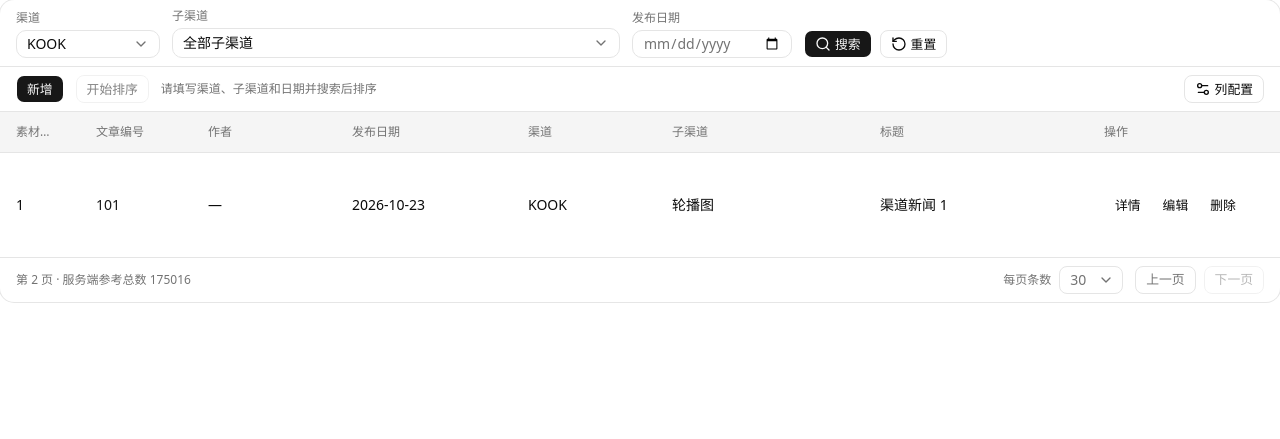
Test: 渠道素材筛选、分页和详情 › 每页条数变化回到第一页，保留已提交条件
Check: the button "渠道新闻 1" is shown, box [880,195,1168,215]
Step 1. Click the dropdown named "每页条数" → (1091, 280), box [1059,266,1123,294]
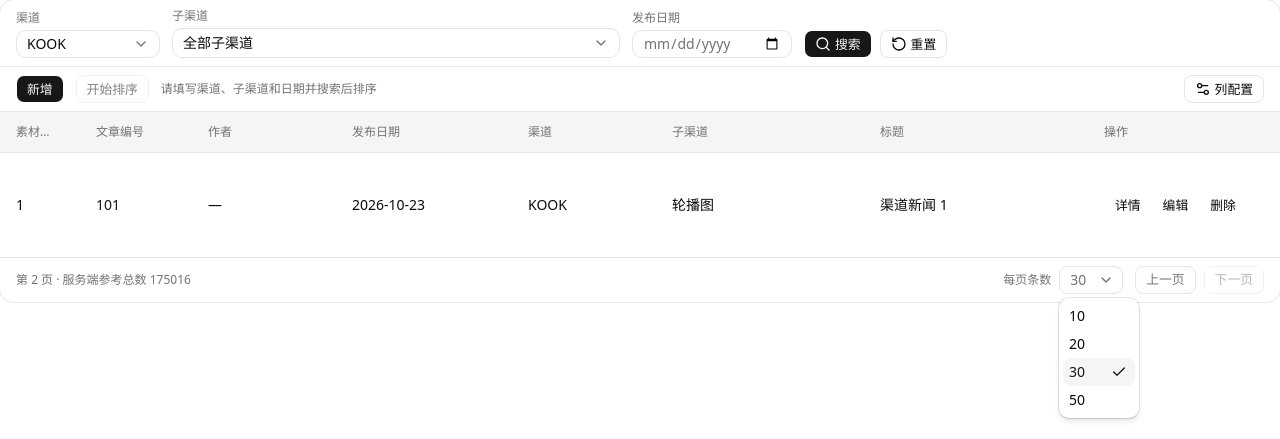
Step 2. Click the option "50" → (1077, 400), box [1069,390,1085,409]
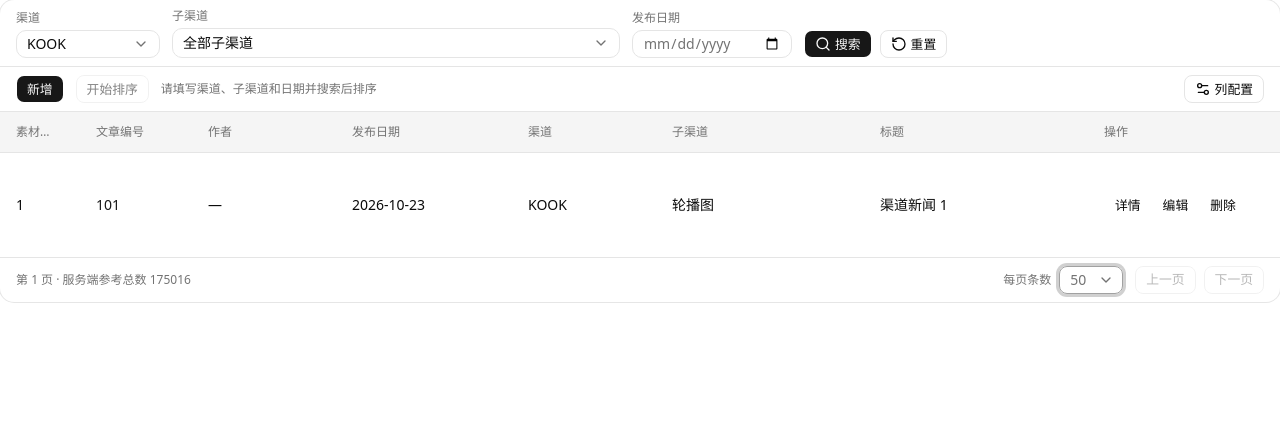
Check: the list is gone
